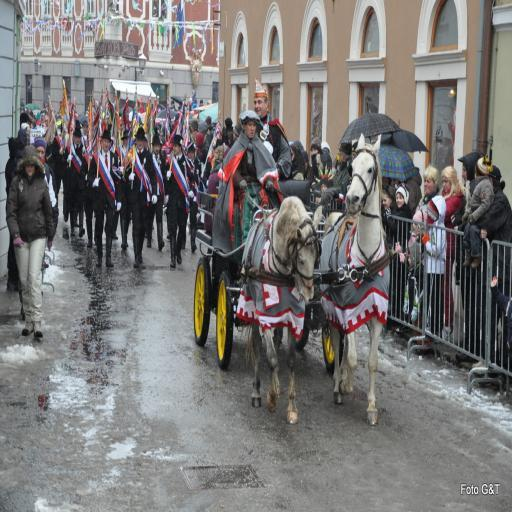Horse: (322, 132, 388, 428), (241, 197, 325, 429)
